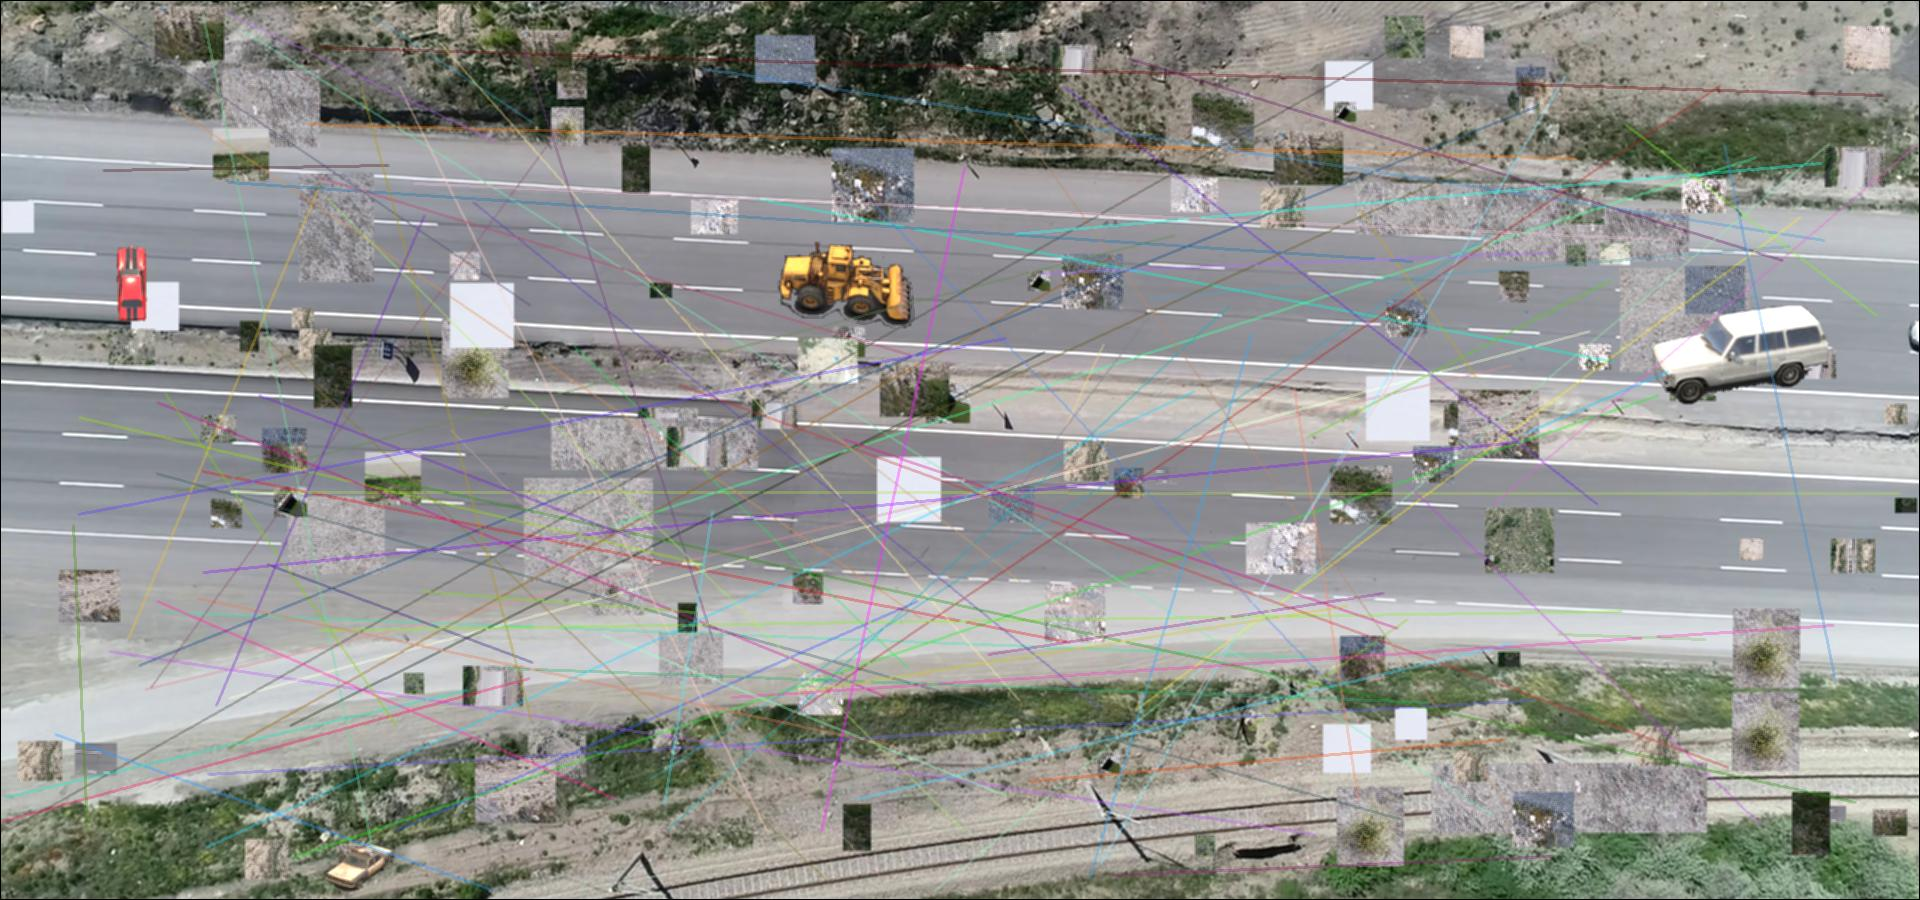arac: (1649, 306, 1828, 407), (775, 239, 915, 328), (324, 842, 397, 895), (114, 244, 149, 323)
